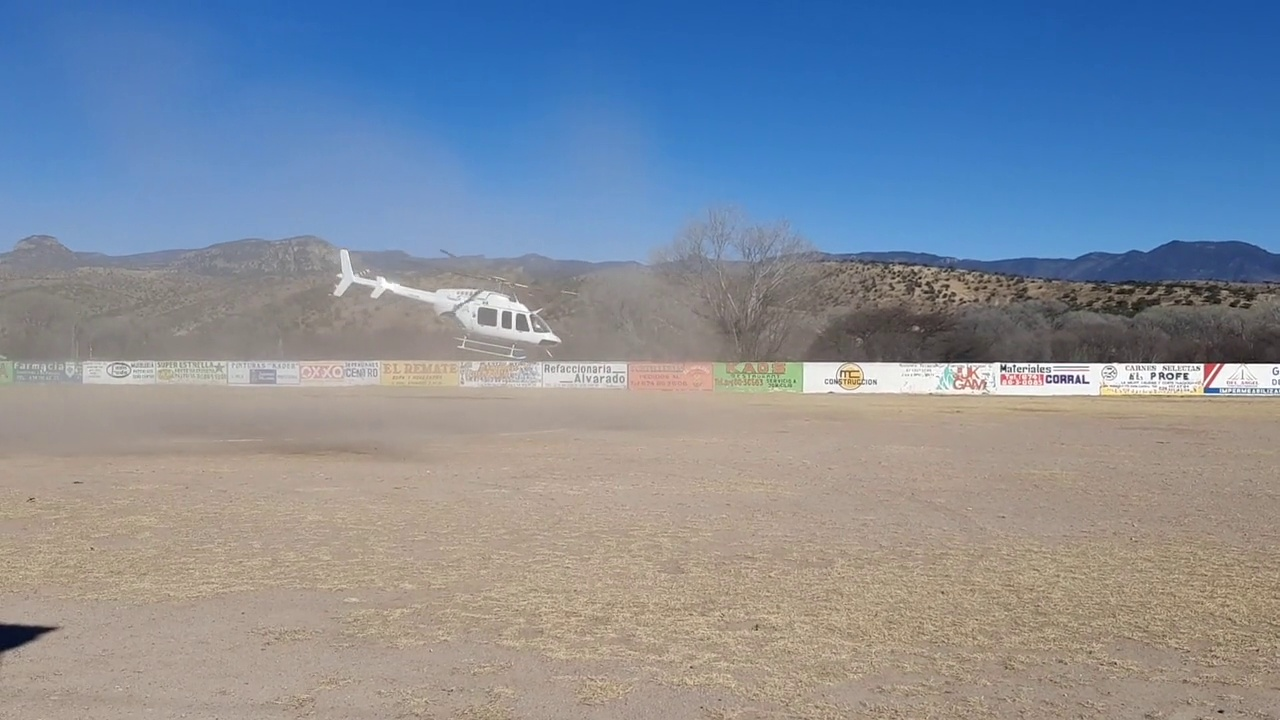heli: (333, 247, 580, 360)
